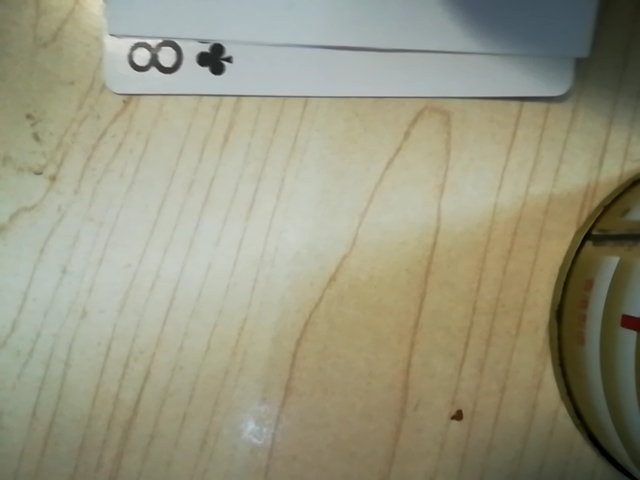mh 8: (114, 26, 237, 90)
